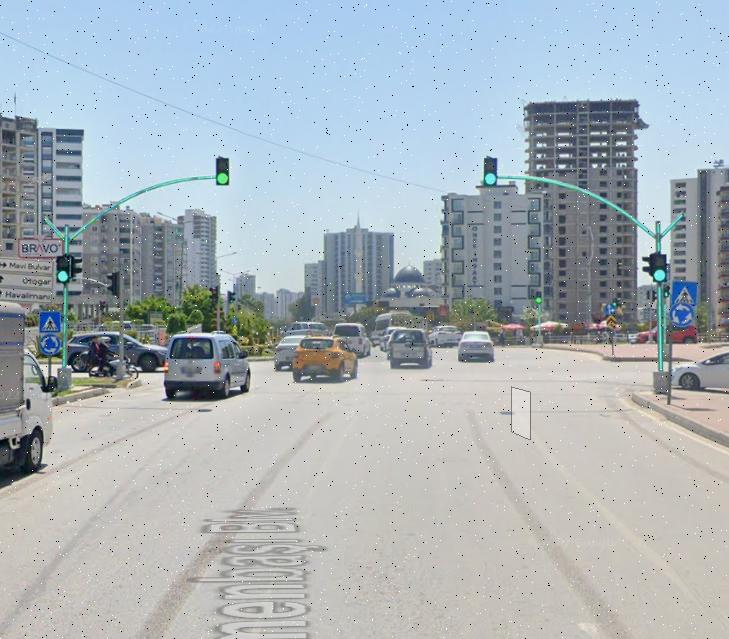crossroads: (672, 303, 691, 326), (42, 334, 60, 354)
greenlight: (651, 253, 670, 286), (56, 256, 73, 285), (483, 156, 499, 186), (217, 157, 228, 184), (536, 291, 543, 304)
